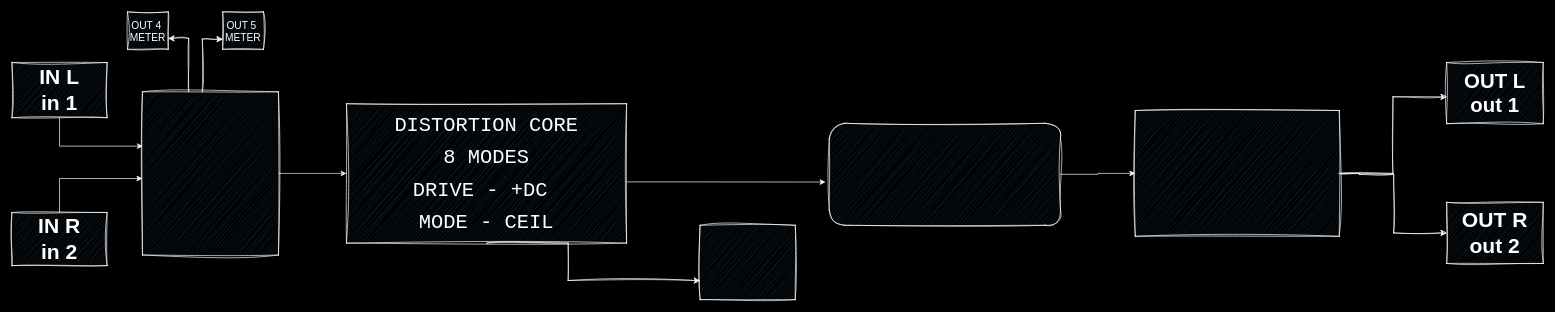
This 1555x312 diagram has some shape labels left out. The shapes that lost their labels are listed below. From the top down, each one's centre as x and y in pixels, then its label:
At point (210, 173): "INPUT STAGE +- 12 dB FILTERS ONEPOLE HPF LPF".
At point (944, 174): "EFFECT CHAIN BIT CRUSHER DECIMATOR".
At point (1237, 173): "OUTPUT STAGE PRE MAKEUP DRY WET".
At point (747, 262): "OUT 3 Dummy".
